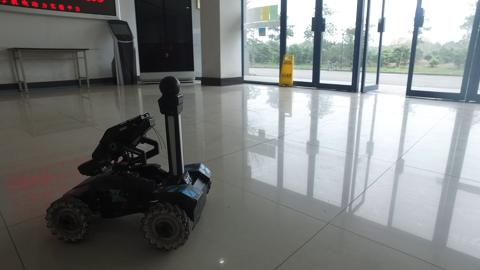chariot: (40, 73, 213, 253)
